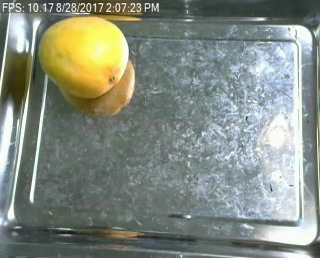Mango: (35, 13, 131, 97)
